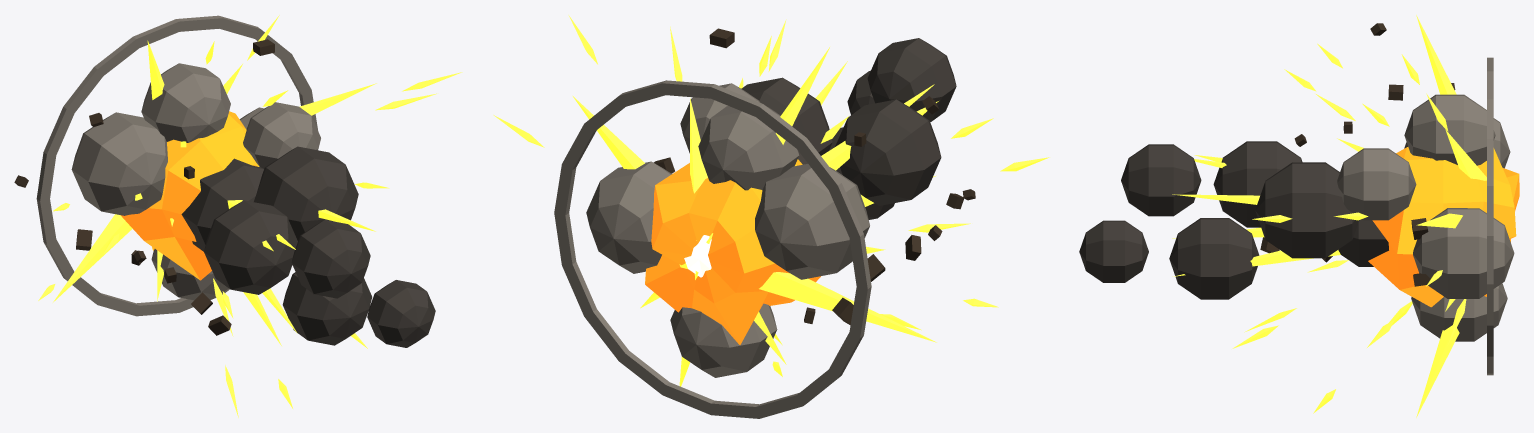
The model's file is impacto-proyectil.fbx.
3 views of the same model, side by side, from view 1: azimuth 30°, elevation 25°; view 2: azimuth 150°, elevation 25°; view 3: azimuth 270°, elevation 25° (orthographic). The views are drawn at different scales.
Parts seen in each view (by area): view 1: Humo, HumoClaro, Onda, BolaFuego, Rayos, Chispas, Escombros; view 2: HumoClaro, Humo, Onda, BolaFuego, Rayos, Chispas, Escombros, Nucleo; view 3: Humo, HumoClaro, BolaFuego, Rayos, Chispas, Onda, Escombros.
Boxes of the visible parts, bbox=[...] form: Humo: bbox=[181, 146, 435, 347]; HumoClaro: bbox=[71, 63, 320, 300]; Onda: bbox=[36, 15, 317, 316]; BolaFuego: bbox=[120, 111, 259, 280]; Rayos: bbox=[53, 40, 376, 345]; Chispas: bbox=[38, 15, 462, 417]; Escombros: bbox=[14, 39, 274, 335]; HumoClaro: bbox=[586, 83, 869, 377]; Humo: bbox=[741, 38, 956, 219]; Onda: bbox=[554, 80, 871, 418]; BolaFuego: bbox=[645, 159, 820, 344]; Rayos: bbox=[573, 47, 936, 386]; Chispas: bbox=[493, 15, 1049, 376]; Escombros: bbox=[654, 28, 975, 325]; Nucleo: bbox=[684, 235, 711, 277]; Humo: bbox=[1079, 141, 1388, 299]; HumoClaro: bbox=[1337, 94, 1514, 341]; BolaFuego: bbox=[1368, 147, 1519, 307]; Rayos: bbox=[1172, 15, 1486, 417]; Chispas: bbox=[1194, 43, 1466, 413]; Onda: bbox=[1487, 57, 1493, 375]; Escombros: bbox=[1260, 23, 1455, 286].
Bounding box in the file's own units: 3.78 × 2.91 × 3.28.
